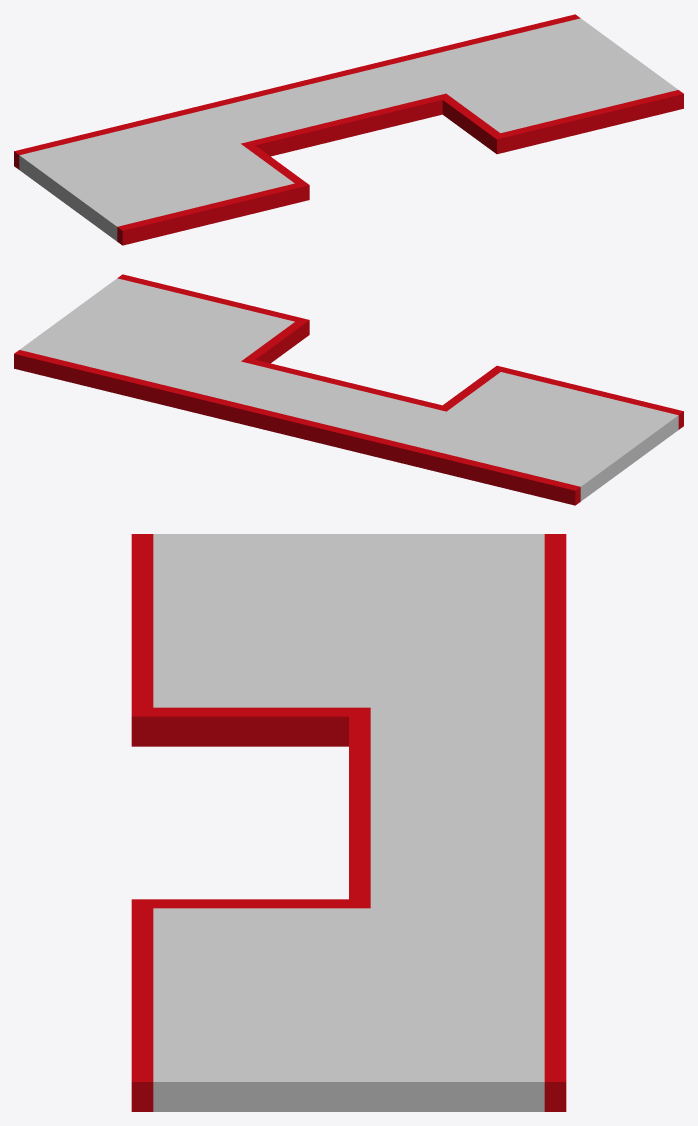
File: pathwithhole.fbx
3 renders of one model, top to bottom at view 1: azimuth 30°, elevation 25°; view 2: azimuth 150°, elevation 25°; view 3: azimuth 270°, elevation 25°, orthographic. The views are drawn at different scales.
Visible parts, largest first — view 1: Cube; view 2: Cube; view 3: Cube.
Boxes of the visible parts, x1,y1,x2,y2 form: Cube: (14,14,683,245); Cube: (14,274,683,505); Cube: (131,534,566,1111).
Bounding box in the file's own units: 1583 × 40.11 × 530.
